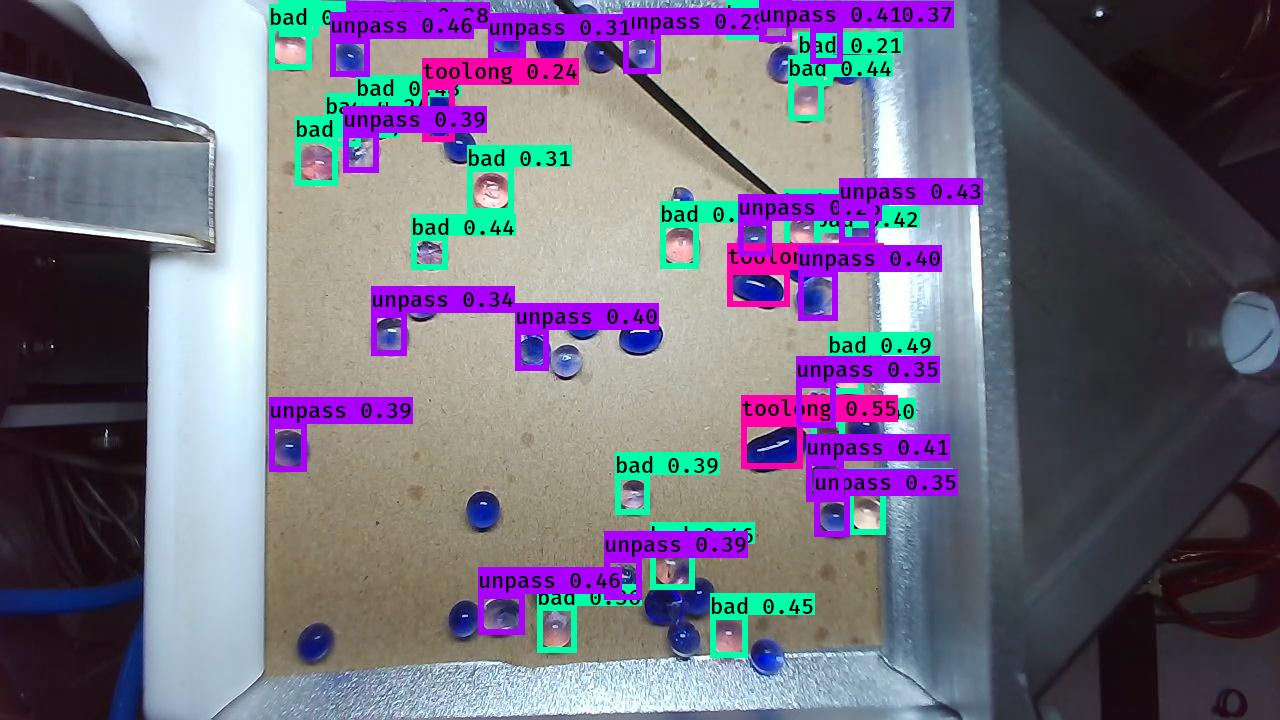bad: (560, 75, 612, 131), (877, 230, 931, 283), (442, 194, 498, 245), (835, 453, 887, 507), (439, 545, 491, 599), (789, 472, 842, 524), (666, 66, 716, 121), (823, 525, 873, 580), (882, 150, 931, 204), (682, 532, 730, 586), (489, 130, 541, 178), (835, 166, 881, 216)
